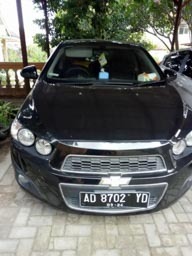plat: (79, 193, 149, 202)
